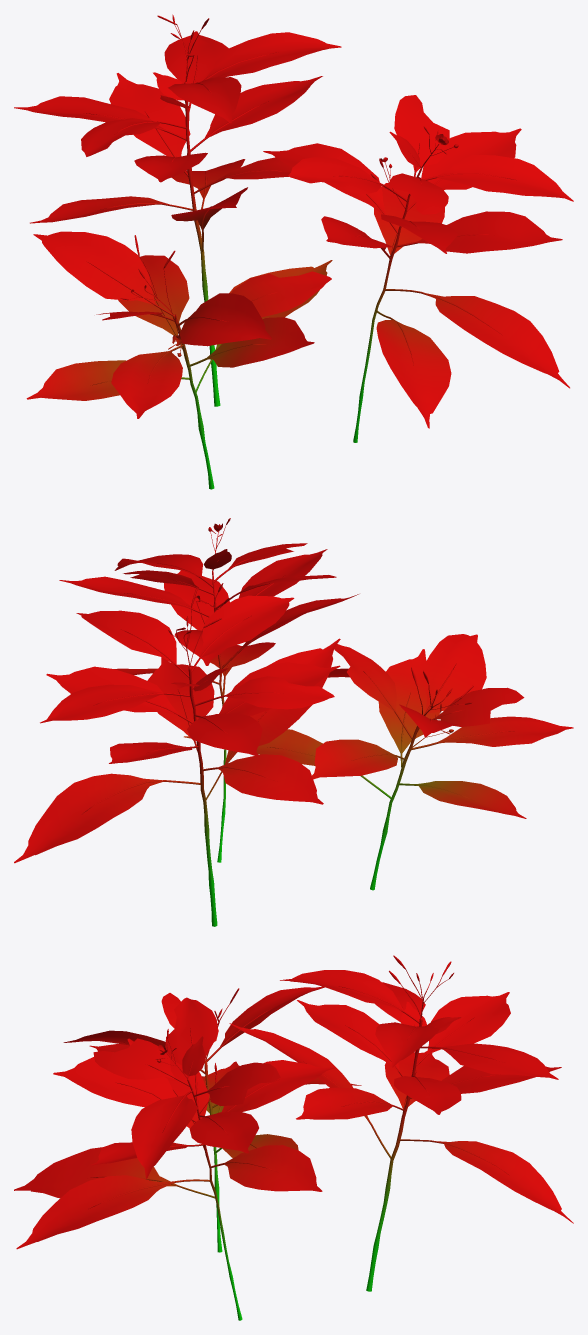
File: Small Balsam_LOD0_Var6_xefmcgrqx.fbx
3 views of the same model, one above another, from view 1: azimuth 30°, elevation 25°; view 2: azimuth 150°, elevation 25°; view 3: azimuth 270°, elevation 25° (orthographic). The views are drawn at different scales.
Parts seen in each view (by area): view 1: _5o3z_Var6_LOD0; view 2: _5o3z_Var6_LOD0; view 3: _5o3z_Var6_LOD0.
Part boxes in pixels (bbox=[...]): _5o3z_Var6_LOD0: bbox=[14, 14, 573, 489]; _5o3z_Var6_LOD0: bbox=[14, 518, 573, 926]; _5o3z_Var6_LOD0: bbox=[14, 955, 573, 1320].
Size of the model in its own units: 56.84 by 40.77 by 61.21.
